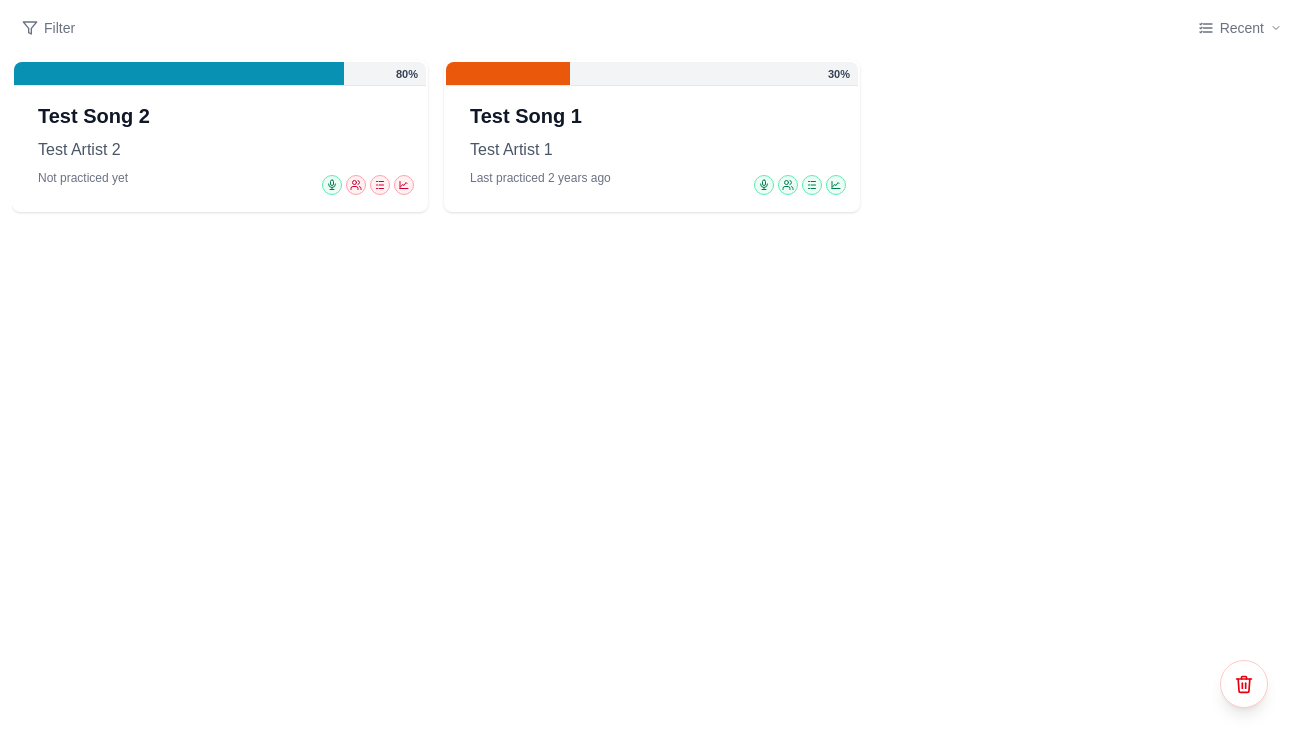
SongBrowser › sorts by memory score descending by default
The width and height of the screenshot is (1304, 732).
Check: the element with test id "song-browser-grid" is shown, box [12,60,860,212]
What coordinates should you click on to do the following:
click the button with test id "song-browser-sort-toggle"
I would click on:
 (1240, 28)
Its box is [1188,12,1292,44].
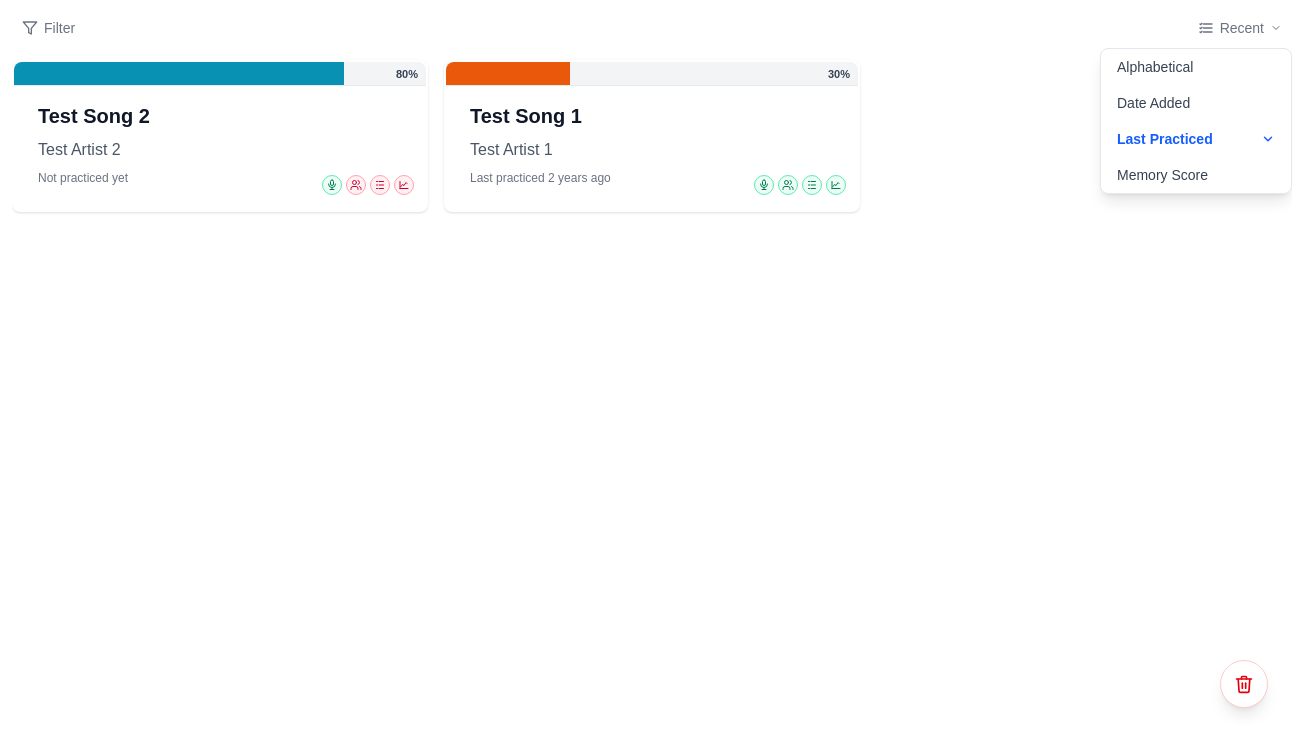
What coordinates should you click on to do the following:
click the button with test id "song-browser-sort-memory-score"
I would click on:
 (1196, 175)
Its box is [1101,157,1291,193].
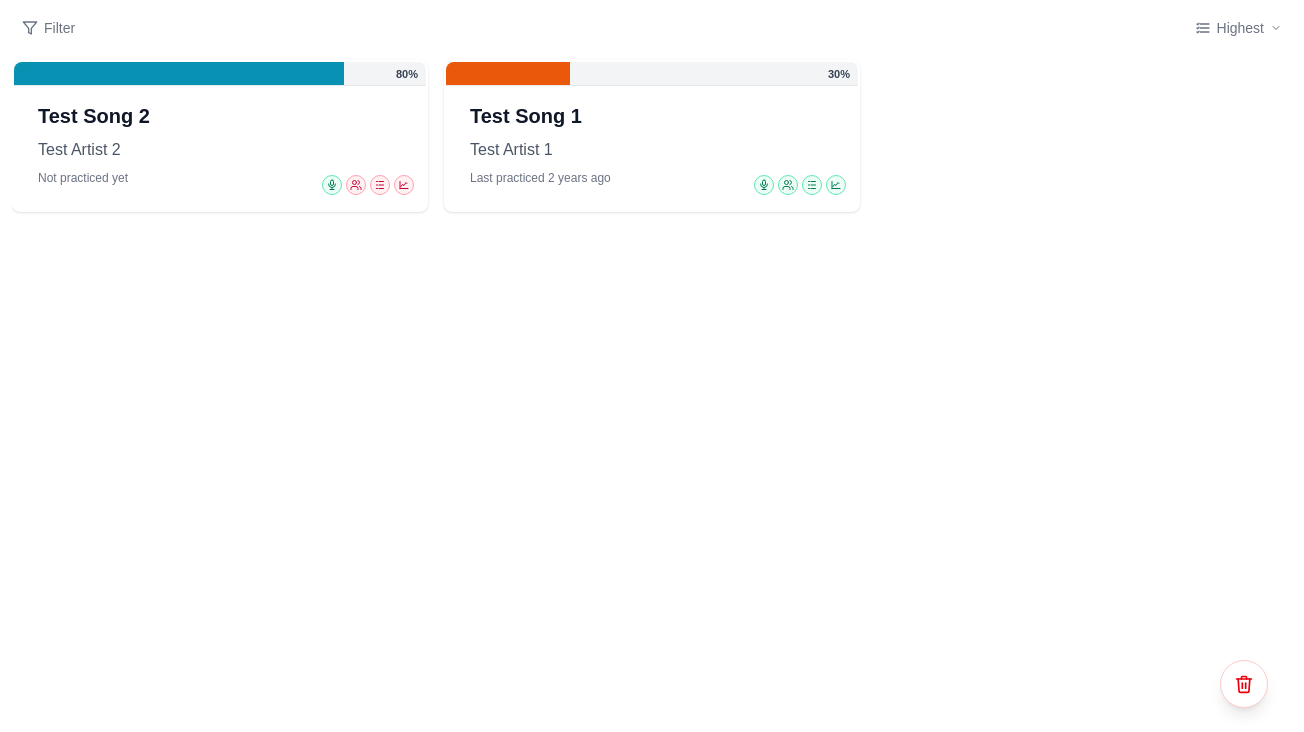
Check: the element with test id "song-item-song-1" is shown, box [444,60,860,212]
Check: the button with test id "song-browser-sort-toggle" reads "Highest", box [1184,12,1292,44]
